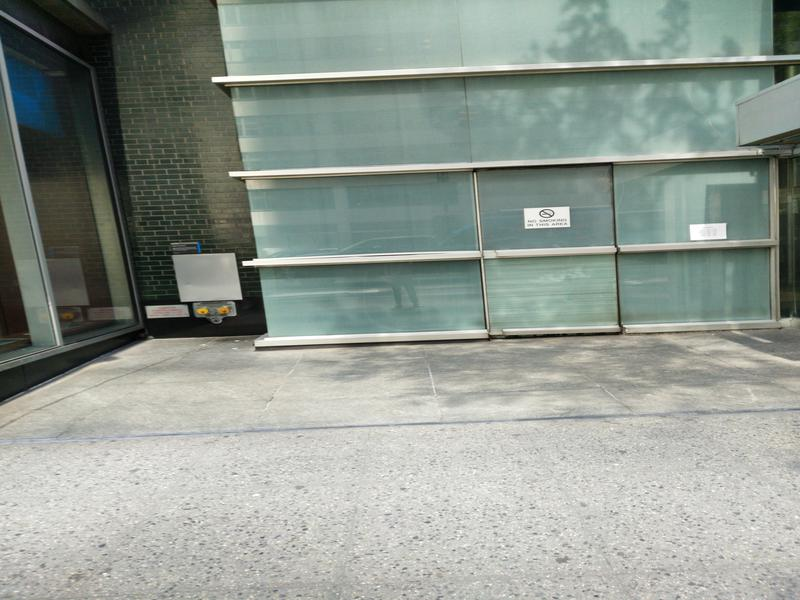door: (468, 158, 634, 342)
